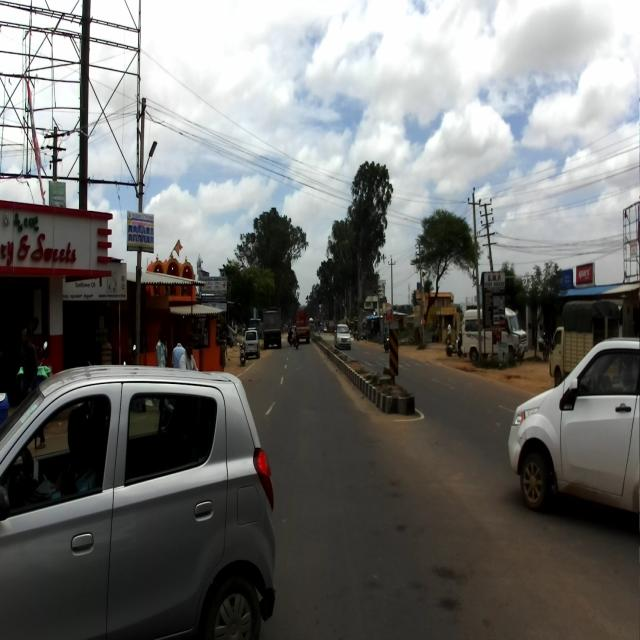Car_Mahindra: (506, 333, 640, 513)
Car_Maruti-Suzuki: (0, 363, 277, 640)
